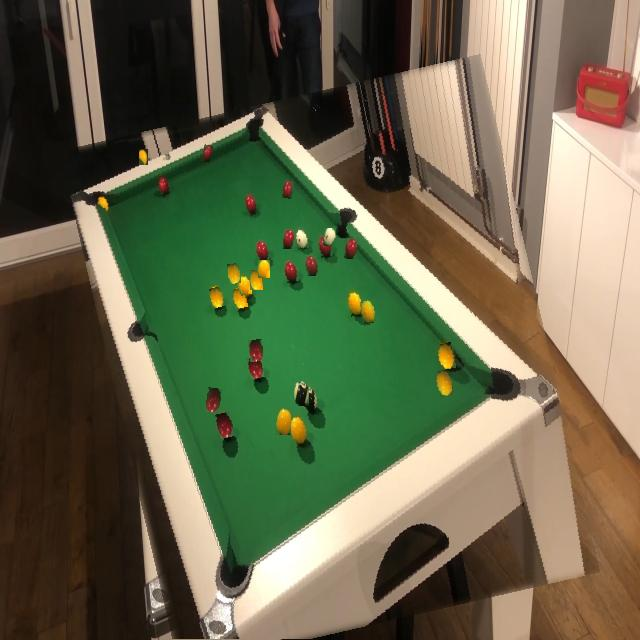Ball: (436, 370, 453, 397), (276, 408, 291, 435), (206, 388, 221, 413), (294, 381, 309, 406), (360, 300, 375, 323), (249, 340, 263, 362), (305, 255, 319, 276), (250, 270, 263, 290), (345, 238, 357, 259), (228, 264, 240, 284), (258, 260, 270, 278), (324, 228, 336, 246), (284, 229, 294, 249), (283, 181, 294, 199), (202, 145, 213, 162), (140, 149, 150, 165)
Billiard table: (86, 75, 573, 640)
